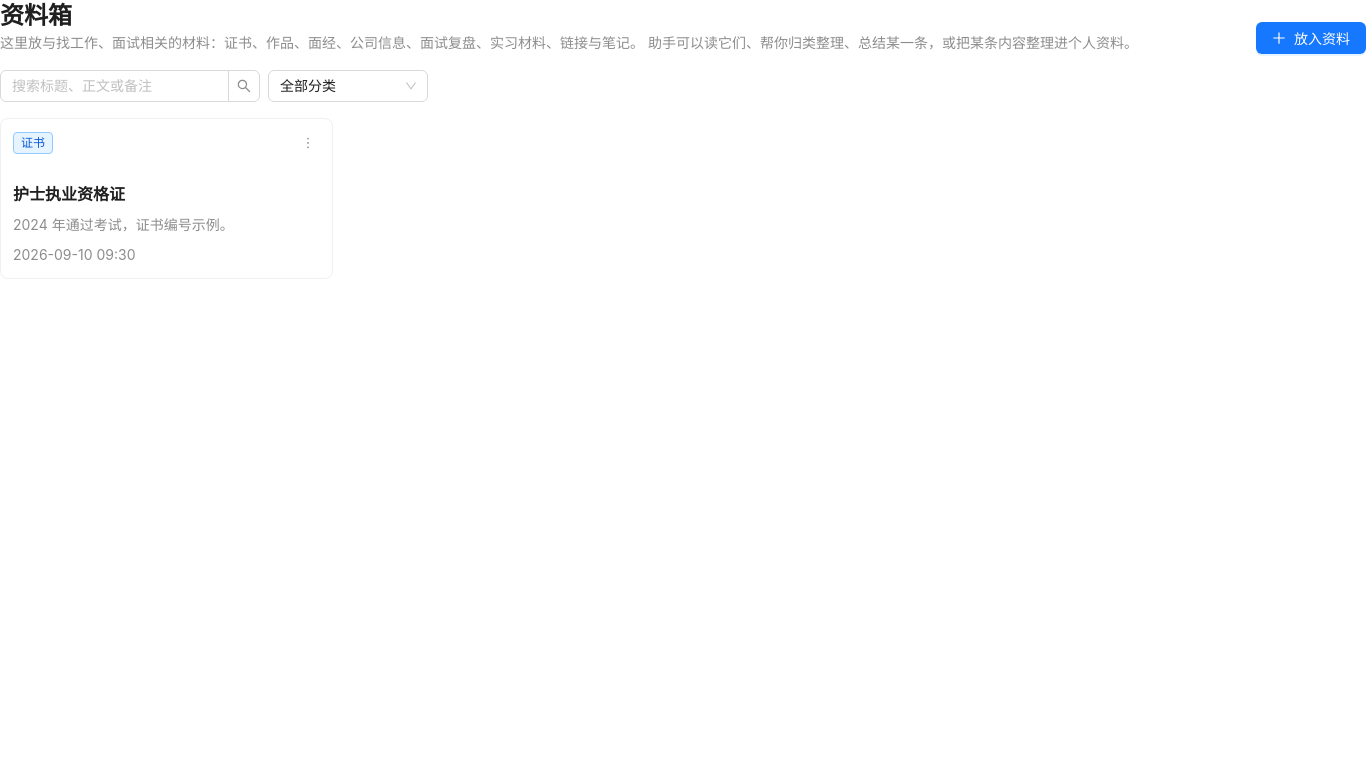
Scenario: MaterialsPage › 点卡片打开详情，看得到正文与备注
Expected: the heading "护士执业资格证" is shown, left=13, top=184, right=125, bottom=204
Click the button with aria-label "打开资料「护士执业资格证」的详情": click(166, 198) left=0, top=118, right=332, bottom=279
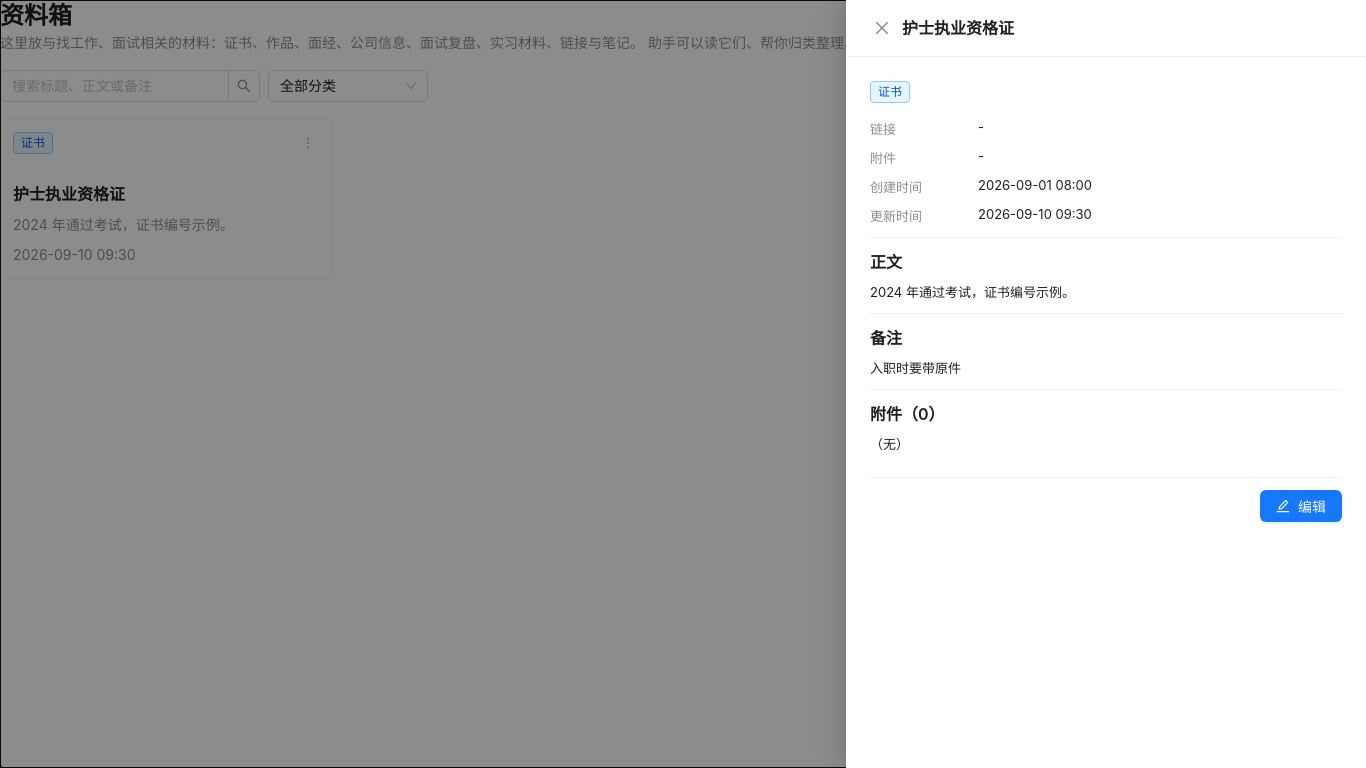
Result: the heading "正文" is shown at left=870, top=252, right=902, bottom=272
Result: the heading "备注" is shown at left=870, top=328, right=902, bottom=348
Result: the text "入职时要带原件" is shown at left=870, top=360, right=961, bottom=376
